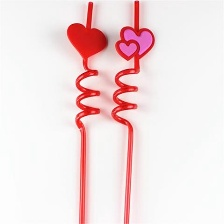drinking_straw: (107, 0, 159, 223), (62, 0, 111, 224)
